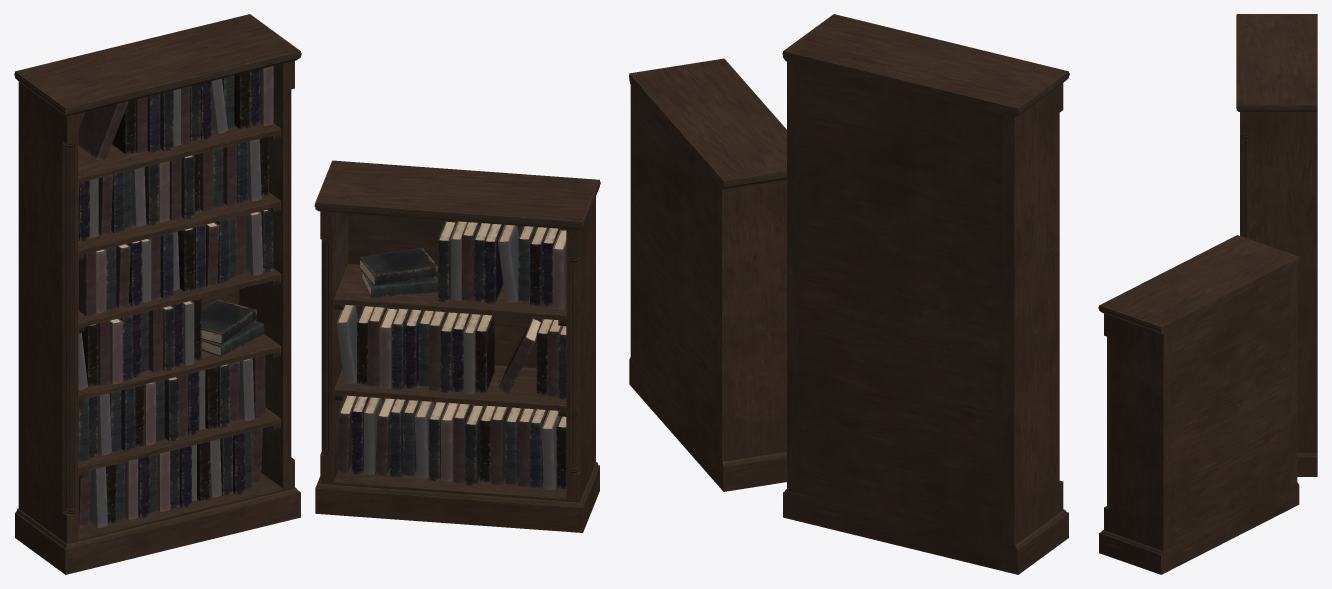
The model's file is prop-bookcase-victorian.glb.
The picture shows the model from 3 angles, left to right: view 1: azimuth 30°, elevation 25°; view 2: azimuth 150°, elevation 25°; view 3: azimuth 270°, elevation 25°; orthographic projection. The views are drawn at different scales.
Parts seen in each view (by area): view 1: Victorian Bookcase Tall, Victorian Bookcase Small, Victorian Bookcase Small Books 1, Victorian Bookcase Tall Books 5, Victorian Bookcase Small Books 2, Victorian Bookcase Tall Books 2, Victorian Bookcase Tall Books 6, Victorian Bookcase Tall Books 1, Victorian Bookcase Tall Books 7, Victorian Bookcase Small Books 4, Victorian Bookcase Tall Books 3, Victorian Bookcase Tall Corner (+4 smaller); view 2: Victorian Bookcase Tall, Victorian Bookcase Small, Victorian Bookcase Tall Corner; view 3: Victorian Bookcase Small, Victorian Bookcase Tall, Victorian Bookcase Tall Corner, Victorian Bookcase Small Corner.
Boxes of the visible parts, bbox=[...] form: Victorian Bookcase Tall: bbox=[14, 14, 301, 574]; Victorian Bookcase Small: bbox=[314, 160, 600, 532]; Victorian Bookcase Small Books 1: bbox=[337, 395, 566, 490]; Victorian Bookcase Tall Books 5: bbox=[78, 210, 273, 316]; Victorian Bookcase Small Books 2: bbox=[336, 305, 494, 393]; Victorian Bookcase Tall Books 2: bbox=[78, 355, 265, 461]; Victorian Bookcase Tall Books 6: bbox=[78, 137, 268, 240]; Victorian Bookcase Tall Books 1: bbox=[78, 428, 262, 527]; Victorian Bookcase Tall Books 7: bbox=[78, 66, 273, 161]; Victorian Bookcase Small Books 4: bbox=[438, 221, 566, 309]; Victorian Bookcase Tall Books 3: bbox=[78, 298, 201, 390]; Victorian Bookcase Tall Corner: bbox=[63, 89, 291, 513]; Victorian Bookcase Tall: bbox=[782, 14, 1069, 574]; Victorian Bookcase Small: bbox=[629, 58, 786, 491]; Victorian Bookcase Tall Corner: bbox=[1058, 113, 1059, 483]; Victorian Bookcase Small: bbox=[1098, 235, 1299, 574]; Victorian Bookcase Tall: bbox=[1236, 14, 1317, 476]; Victorian Bookcase Tall Corner: bbox=[1240, 134, 1247, 238]; Victorian Bookcase Small Corner: bbox=[1107, 336, 1109, 508].
Bounding box in the file's own units: 1.97 × 1.8 × 0.9619.
1 material, 1 textured.
